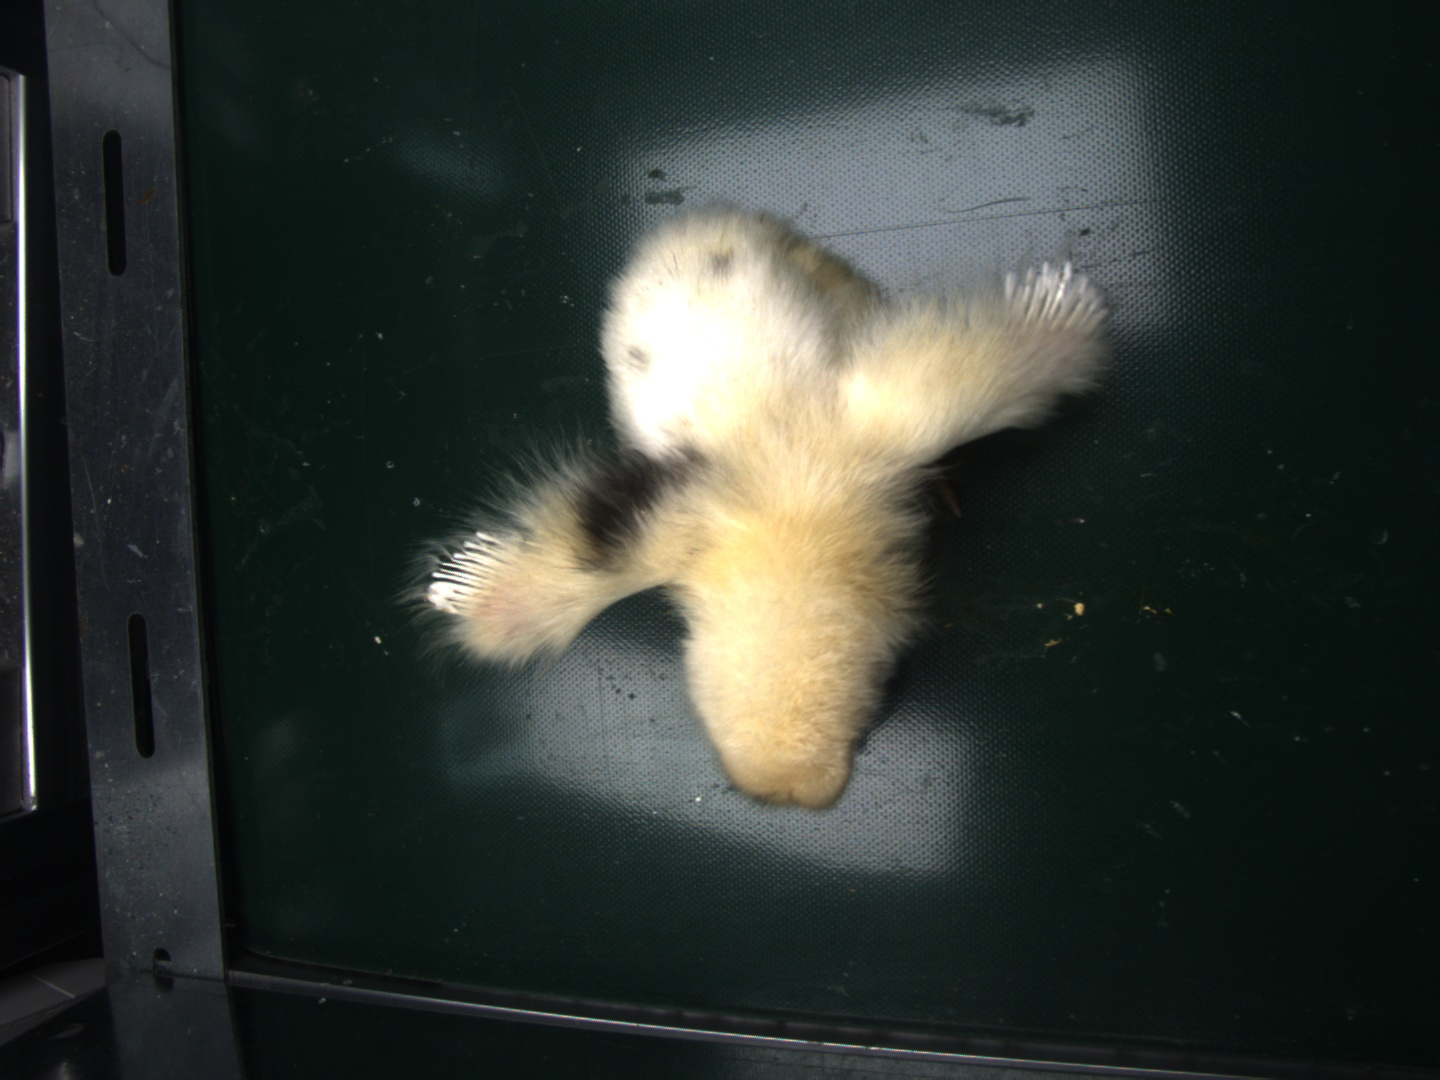male: (430, 532, 514, 622)
